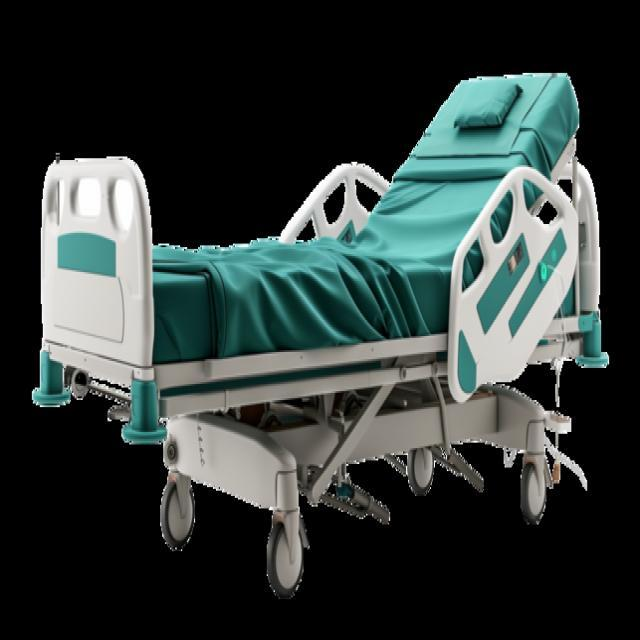bed: (31, 71, 608, 599)
